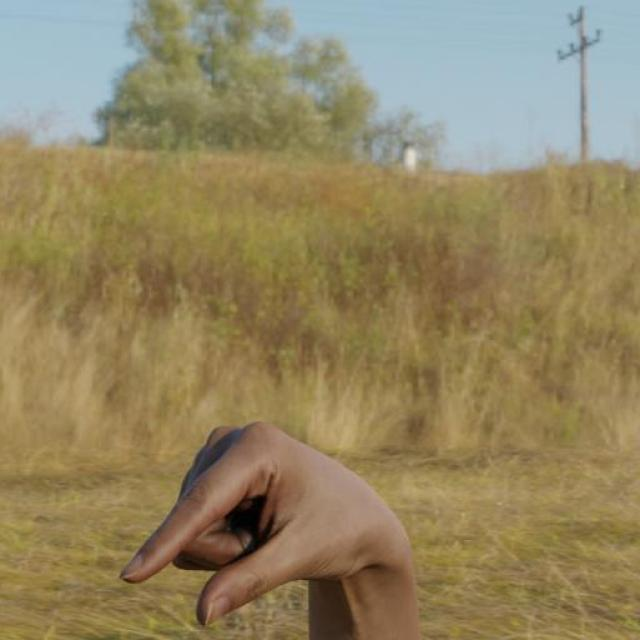Q: (112, 412, 423, 636)
